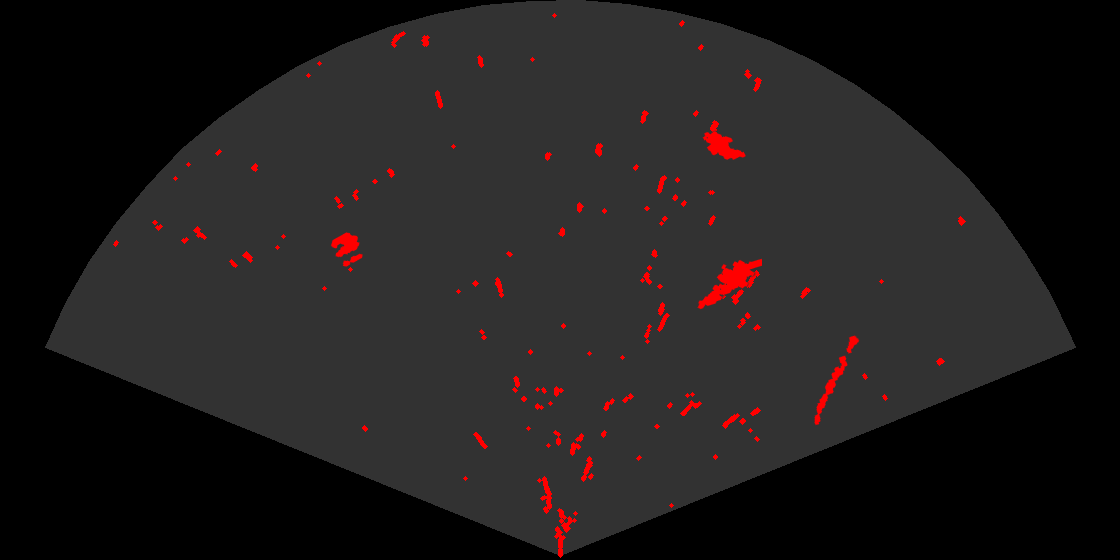AUV: (701, 130, 747, 161)
ball: (329, 231, 364, 268)
chain: (813, 334, 861, 426)
frogman: (696, 257, 762, 311)
